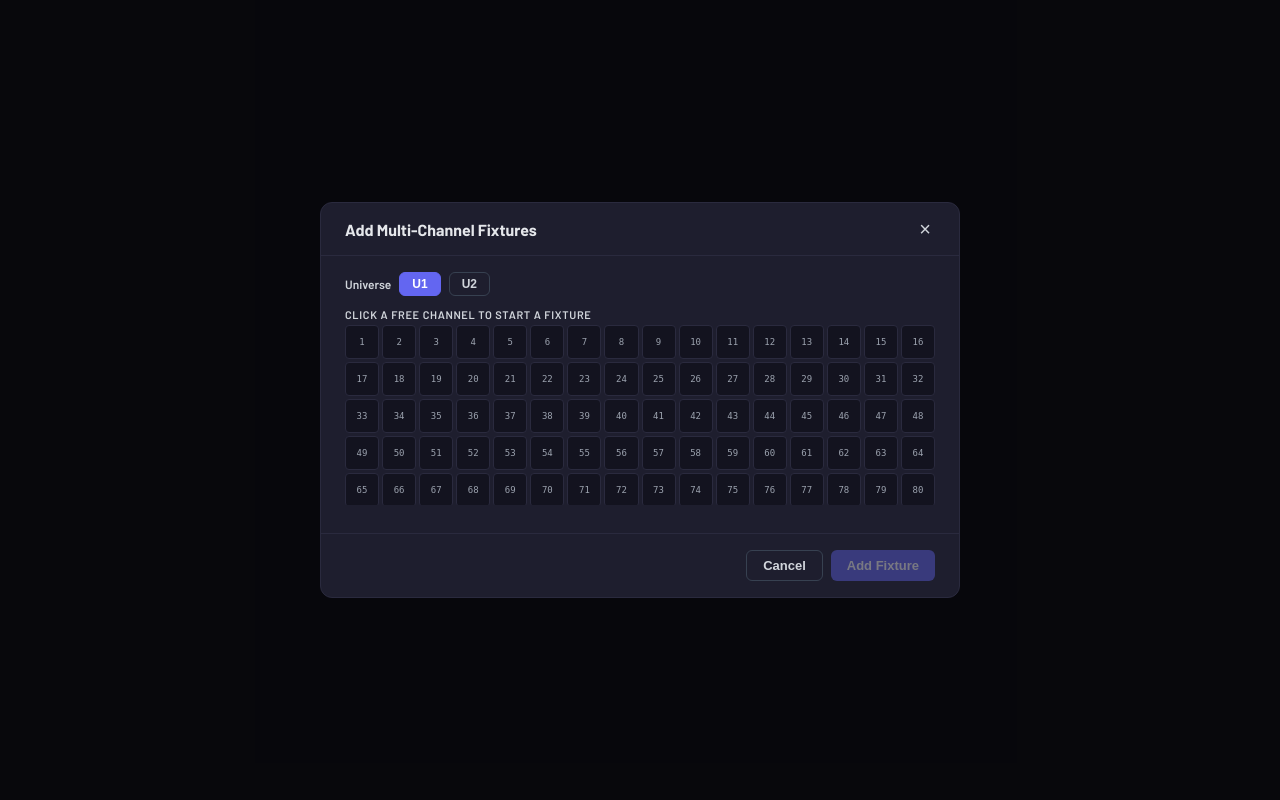
AddMultiChannelFixturesModal › clicking a second free cell adds a second draft card
Step 1. Click the text titled "Channel 5" → (510, 342), box [493,325,527,359]
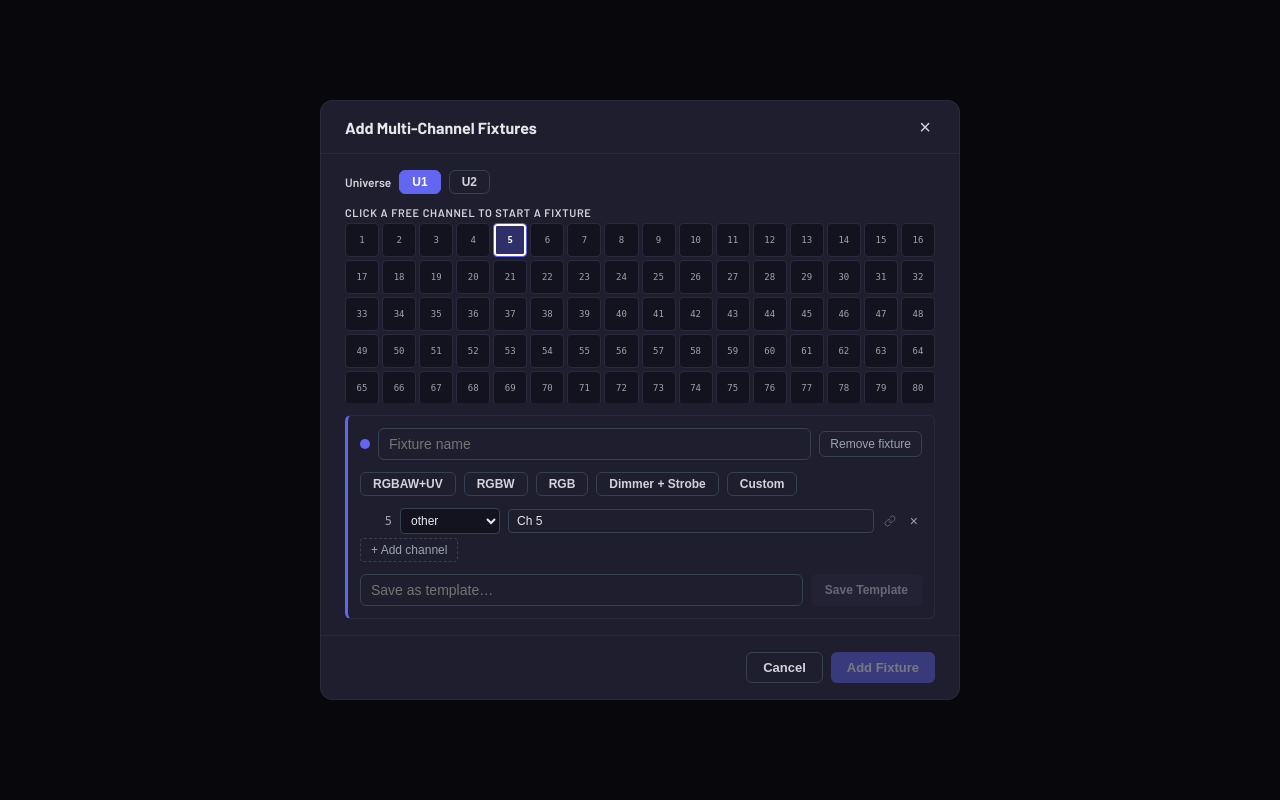
Step 2. Click the text titled "Channel 20" → (473, 277), box [456,260,490,294]
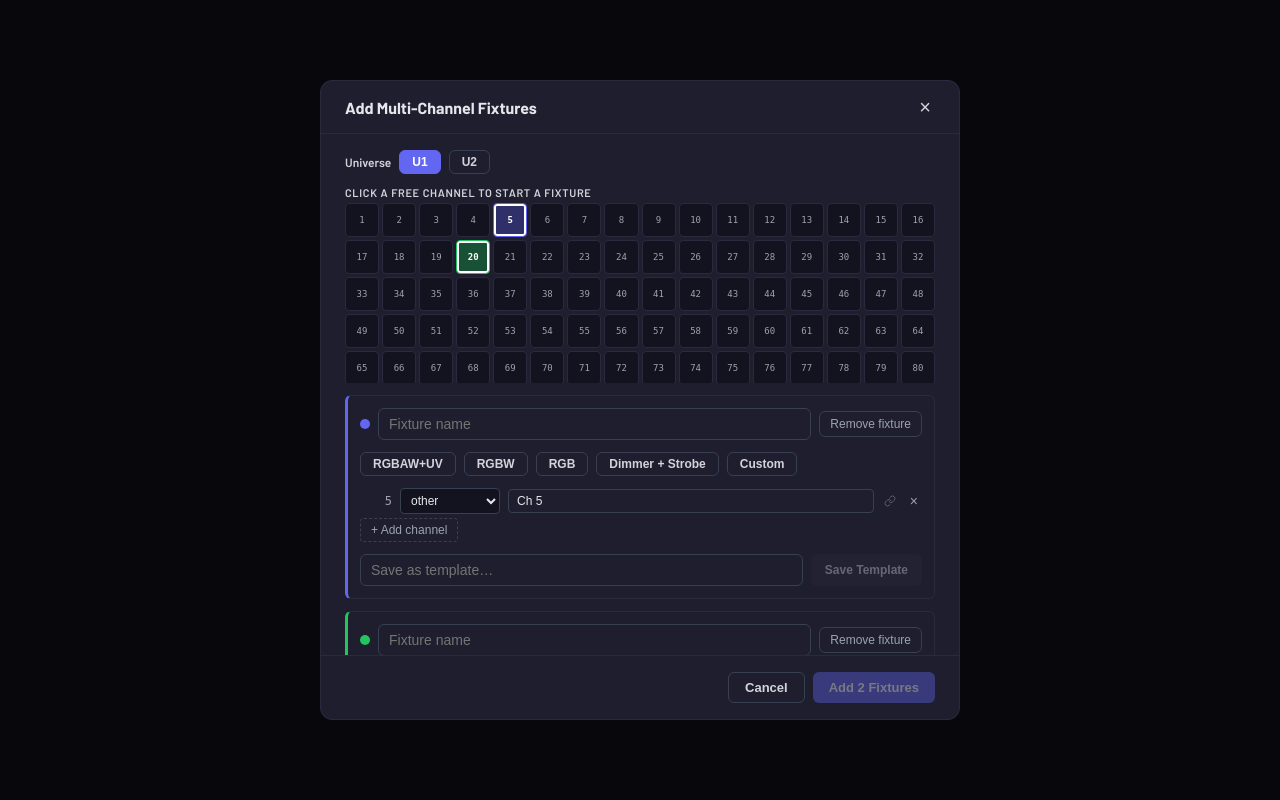
Expected: the number of fields with placeholder "Fixture name" is 2, [378,408,811,440]; [378,624,811,655]
